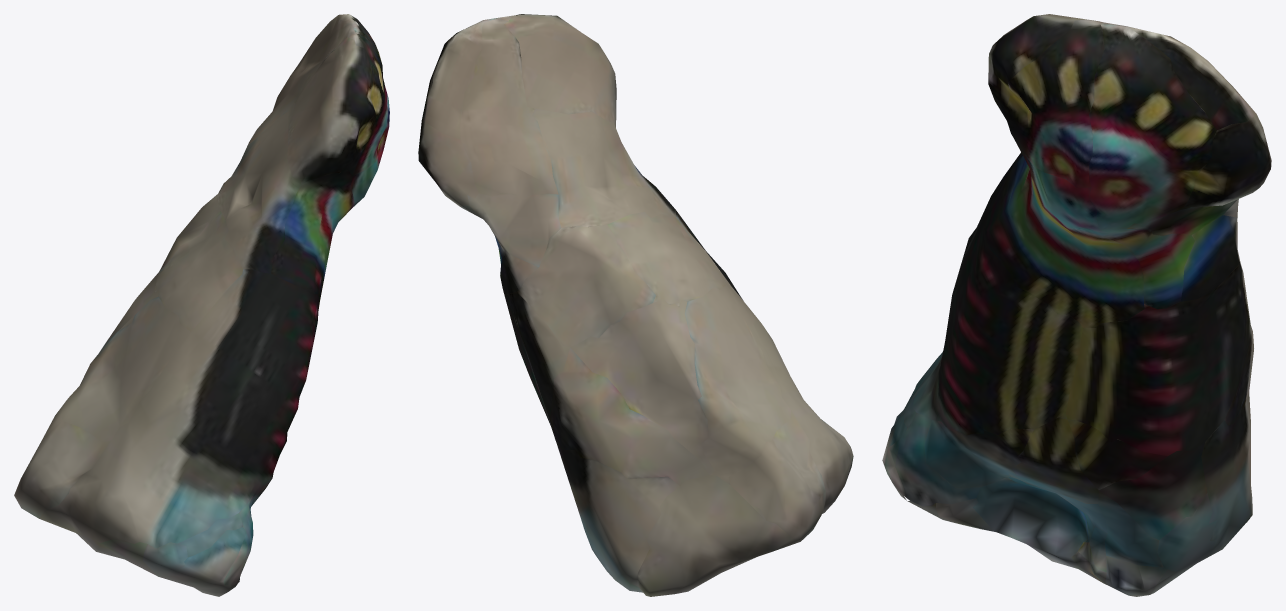
The model's file is hall.glb.
3 renders of one model, left to right at view 1: azimuth 30°, elevation 25°; view 2: azimuth 150°, elevation 25°; view 3: azimuth 270°, elevation 25°, orthographic. The views are drawn at different scales.
Size of the model in its own units: 0.4516 by 0.6105 by 0.3225.
Materials: 1 (1 with a texture image).
